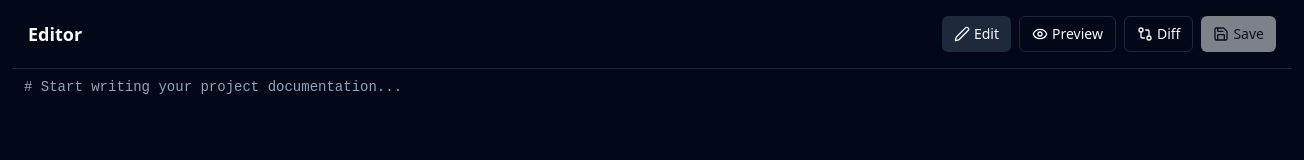
EditorPanel › shows no content message in preview when empty
Click the button "Preview".
click(1067, 34)  # box x1=1019 y1=16 x2=1116 y2=52
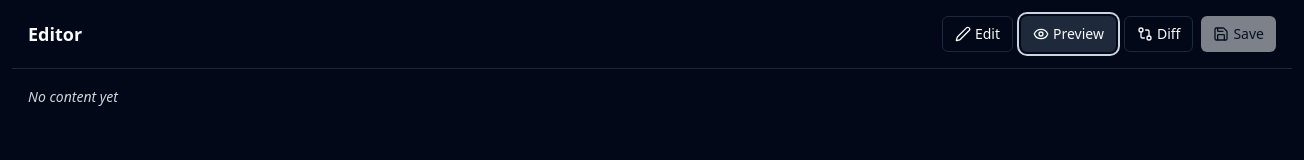
Check: the text "No content yet" is shown, box x1=28 y1=87 x2=118 y2=106
